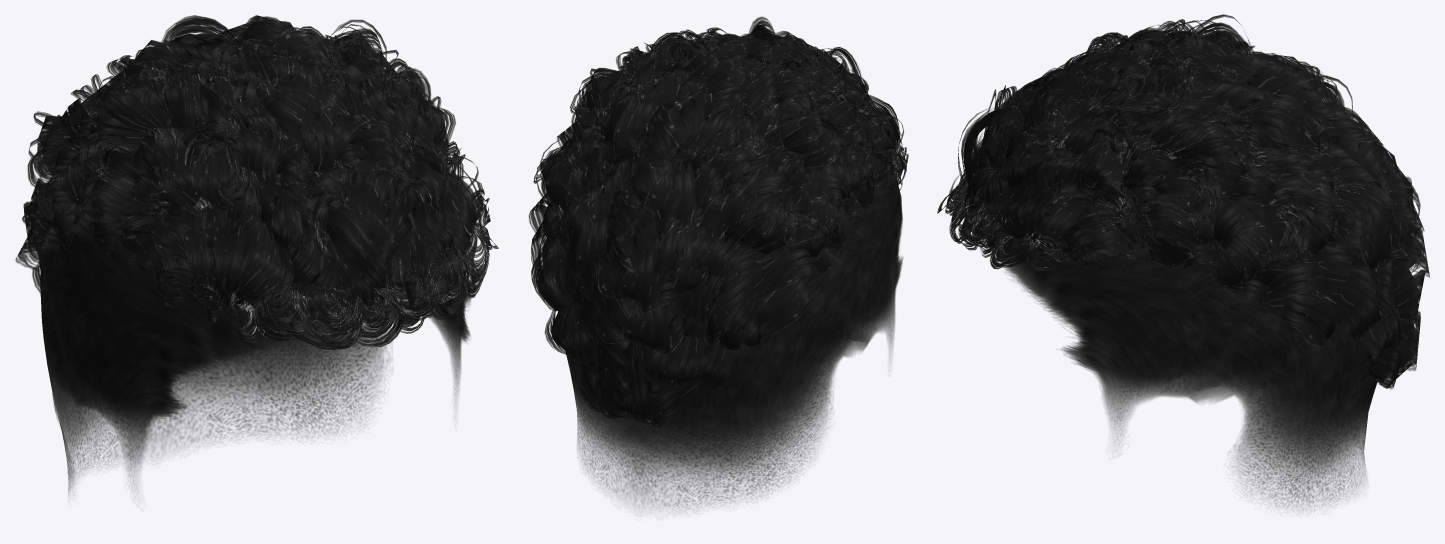
The model's file is diamond_curly_03 LayeredTapered.glb.
3 renders of one model, left to right at view 1: azimuth 30°, elevation 25°; view 2: azimuth 150°, elevation 25°; view 3: azimuth 270°, elevation 25°, orthographic. The views are drawn at different scales.
Parts seen in each view (by area): view 1: CURLY_UNDERCUT.009, Scalp.030; view 2: CURLY_UNDERCUT.009, Scalp.030; view 3: CURLY_UNDERCUT.009, Scalp.030.
Part boxes in pixels (x1=…): CURLY_UNDERCUT.009: x1=15, y1=15, x2=498, y2=349; Scalp.030: x1=40, y1=114, x2=470, y2=493; CURLY_UNDERCUT.009: x1=528, y1=16, x2=908, y2=427; Scalp.030: x1=558, y1=75, x2=903, y2=512; CURLY_UNDERCUT.009: x1=937, y1=14, x2=1429, y2=389; Scalp.030: x1=976, y1=66, x2=1391, y2=511.
Bounding box in the file's own units: 0.1874 × 0.2545 × 0.2514.
2 materials, 2 textured.
